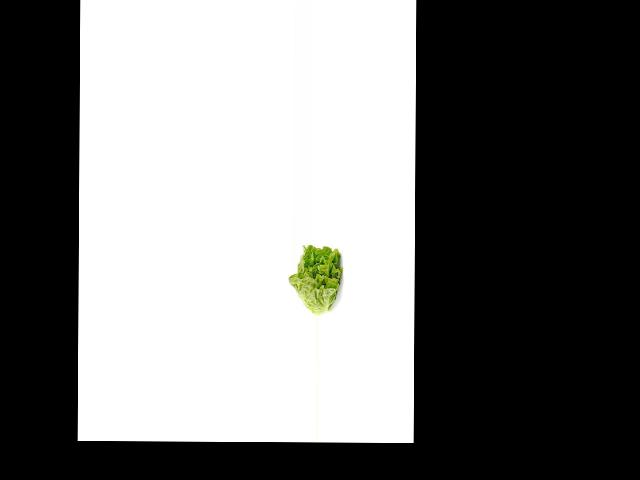lettuce: (289, 245, 346, 314)
